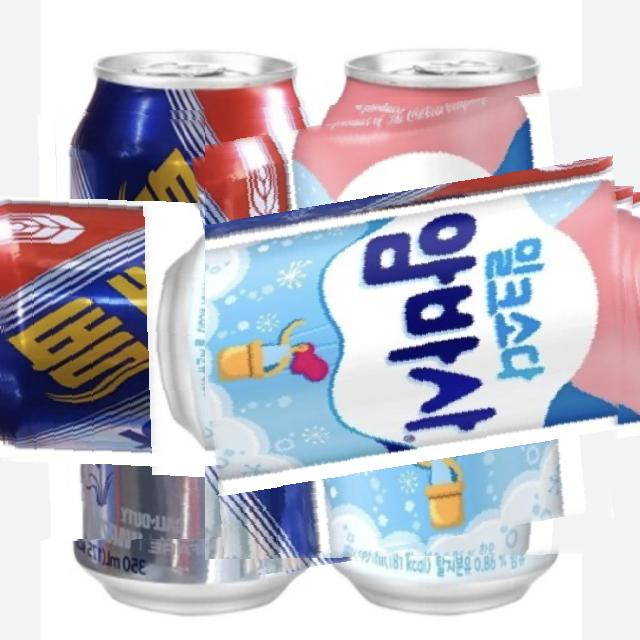recyclable: (205, 97, 640, 560), (0, 107, 405, 539)
